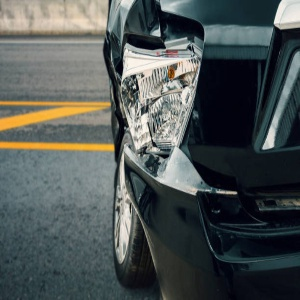head_lights: (113, 7, 210, 175)
